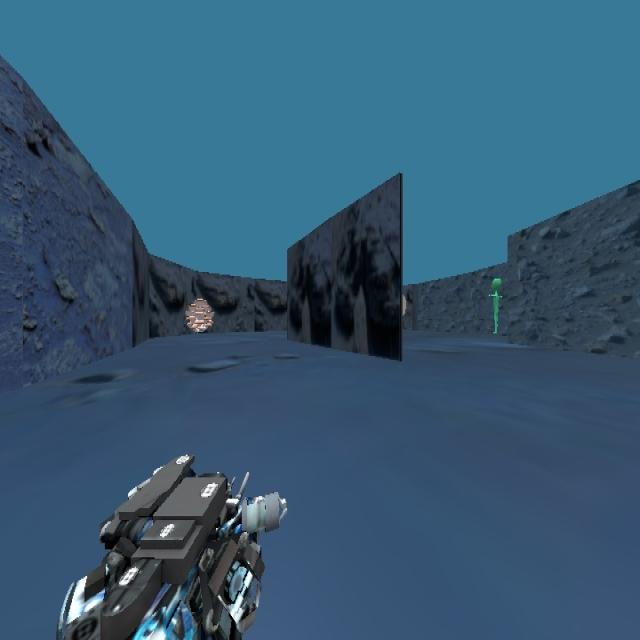Alien: (488, 276, 502, 333)
Mushroom: (184, 296, 214, 333)
